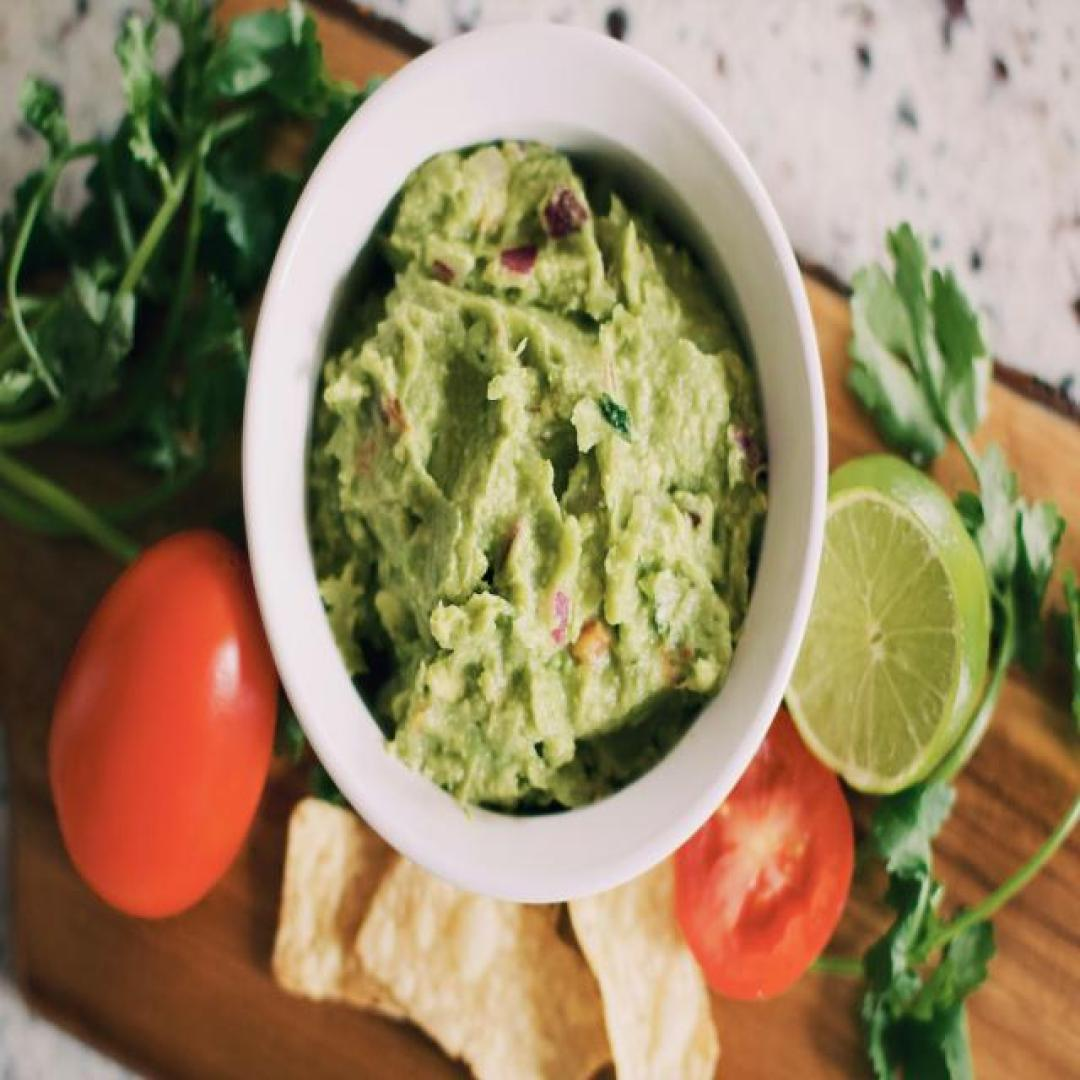matang: (49, 530, 278, 926)
